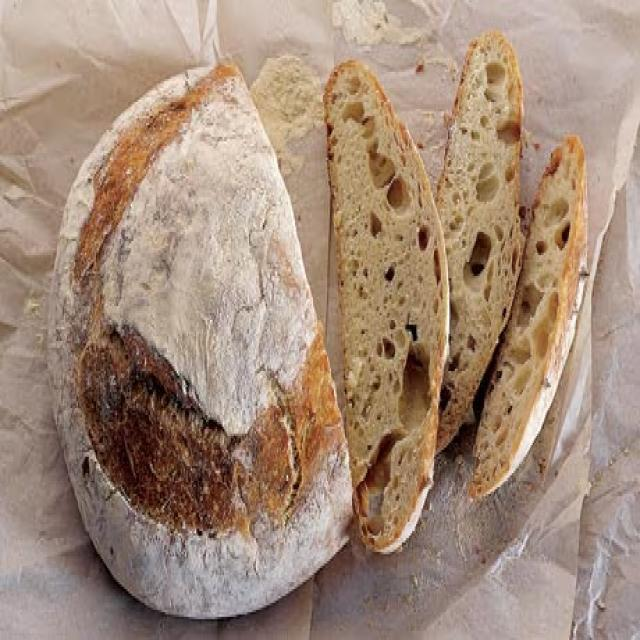Maltese-Bread: (44, 59, 356, 618)
